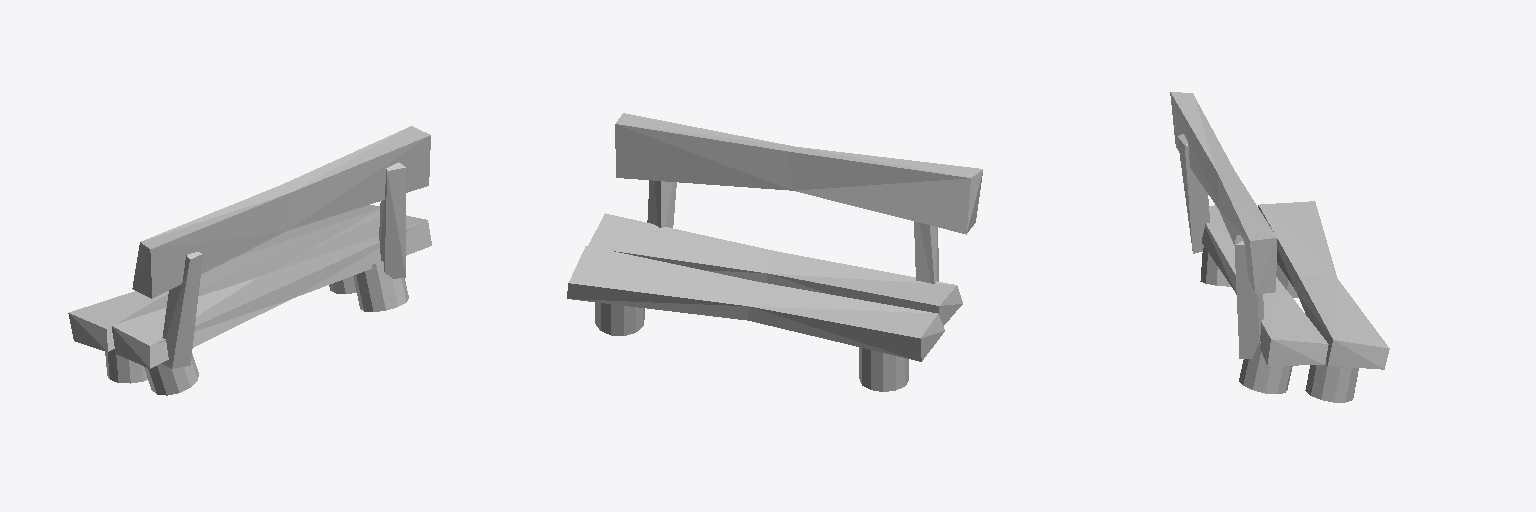
Rendered from garden_bench.obj.
3 views of the same model, side by side, from view 1: azimuth 30°, elevation 25°; view 2: azimuth 150°, elevation 25°; view 3: azimuth 270°, elevation 25° (orthographic).
Parts seen in each view (by area): view 1: group[number redacted], group[number redacted], group[number redacted], group[number redacted], group[number redacted], group[number redacted], group[number redacted], group[number redacted]; view 2: group[number redacted], group[number redacted], group[number redacted], group[number redacted], group[number redacted], group[number redacted], group[number redacted]; view 3: group[number redacted], group[number redacted], group[number redacted], group[number redacted], group[number redacted], group[number redacted], group[number redacted], group[number redacted].
Part boxes in pixels (bbox=[...]): group[number redacted]: bbox=[132, 126, 430, 298]; group[number redacted]: bbox=[112, 215, 431, 368]; group[number redacted]: bbox=[68, 205, 379, 351]; group[number redacted]: bbox=[161, 252, 202, 368]; group[number redacted]: bbox=[379, 162, 405, 278]; group[number redacted]: bbox=[353, 261, 408, 311]; group[number redacted]: bbox=[144, 354, 198, 395]; group[number redacted]: bbox=[105, 349, 147, 383]; group[number redacted]: bbox=[615, 113, 982, 234]; group[number redacted]: bbox=[567, 246, 944, 361]; group[number redacted]: bbox=[588, 213, 962, 325]; group[number redacted]: bbox=[859, 347, 908, 391]; group[number redacted]: bbox=[595, 302, 644, 335]; group[number redacted]: bbox=[914, 221, 938, 283]; group[number redacted]: bbox=[647, 180, 676, 227]; group[number redacted]: bbox=[1258, 201, 1389, 369]; group[number redacted]: bbox=[1170, 92, 1276, 294]; group[number redacted]: bbox=[1202, 205, 1328, 365]; group[number redacted]: bbox=[1234, 235, 1263, 358]; group[number redacted]: bbox=[1177, 134, 1209, 253]; group[number redacted]: bbox=[1305, 363, 1358, 402]; group[number redacted]: bbox=[1239, 342, 1292, 393]; group[number redacted]: bbox=[1200, 247, 1230, 286].
Size of the model in its own units: 0.9418 by 0.4947 by 0.5271.